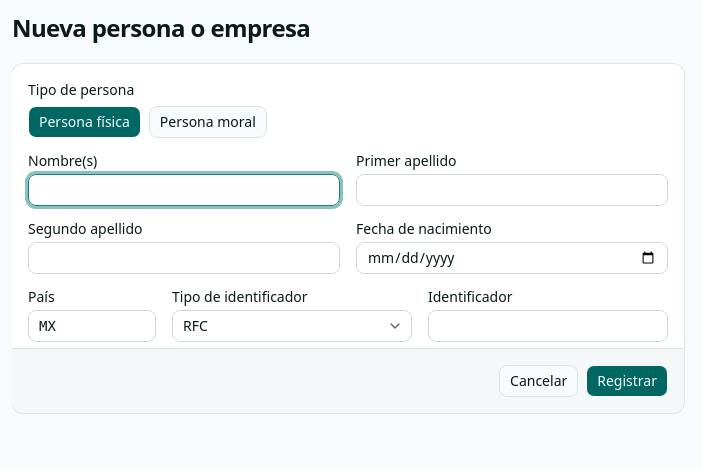
CreatePartyPage › sends nothing while a required field is missing
Click the button "Registrar" at (627, 381), box [586,365,668,397]
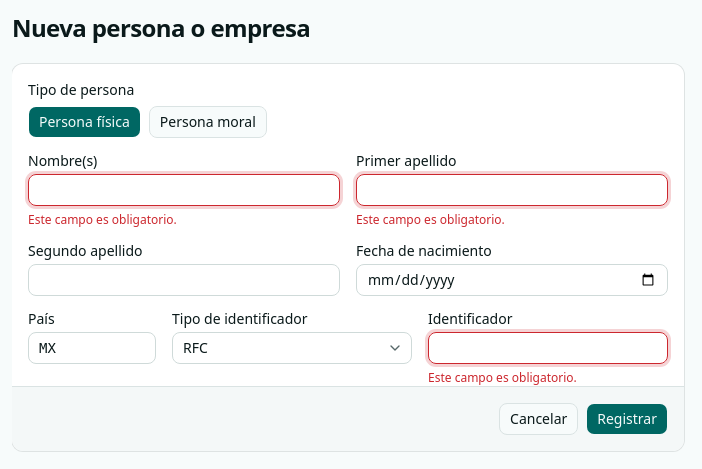
Expected: the text "Este campo es obligatorio." is shown 3 times, [28,211,177,228]; [356,211,505,228]; [428,369,577,386]
